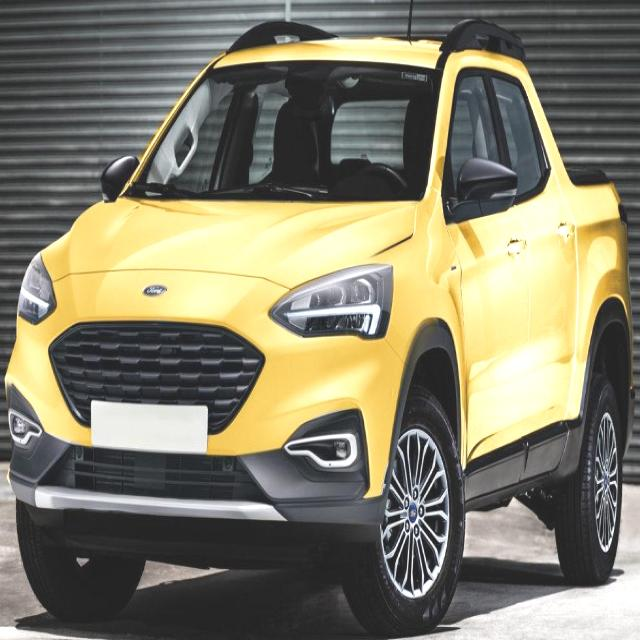CMT: (9, 34, 628, 589)
